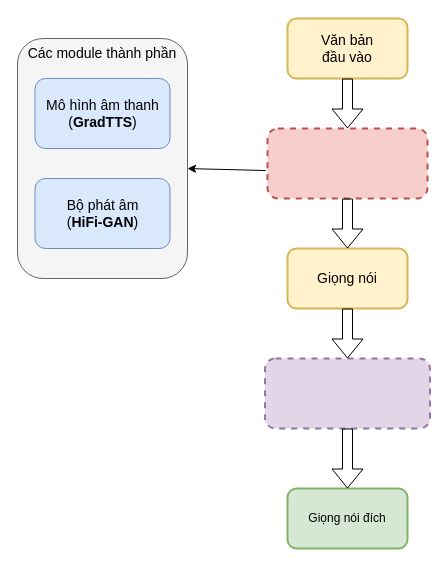
The diagram is 448 pixels wide and 566 high, and some of its shapes have lost their labels. The shapes that lost their labels are listed below. From the top down, each one's centre as x and y in pixels, then its label:
(x=347, y=163): Tổng hợp giọng nói từ văn bản
(x=347, y=393): Chuyển đổi giọng nói ( StarGANv2-VC )
